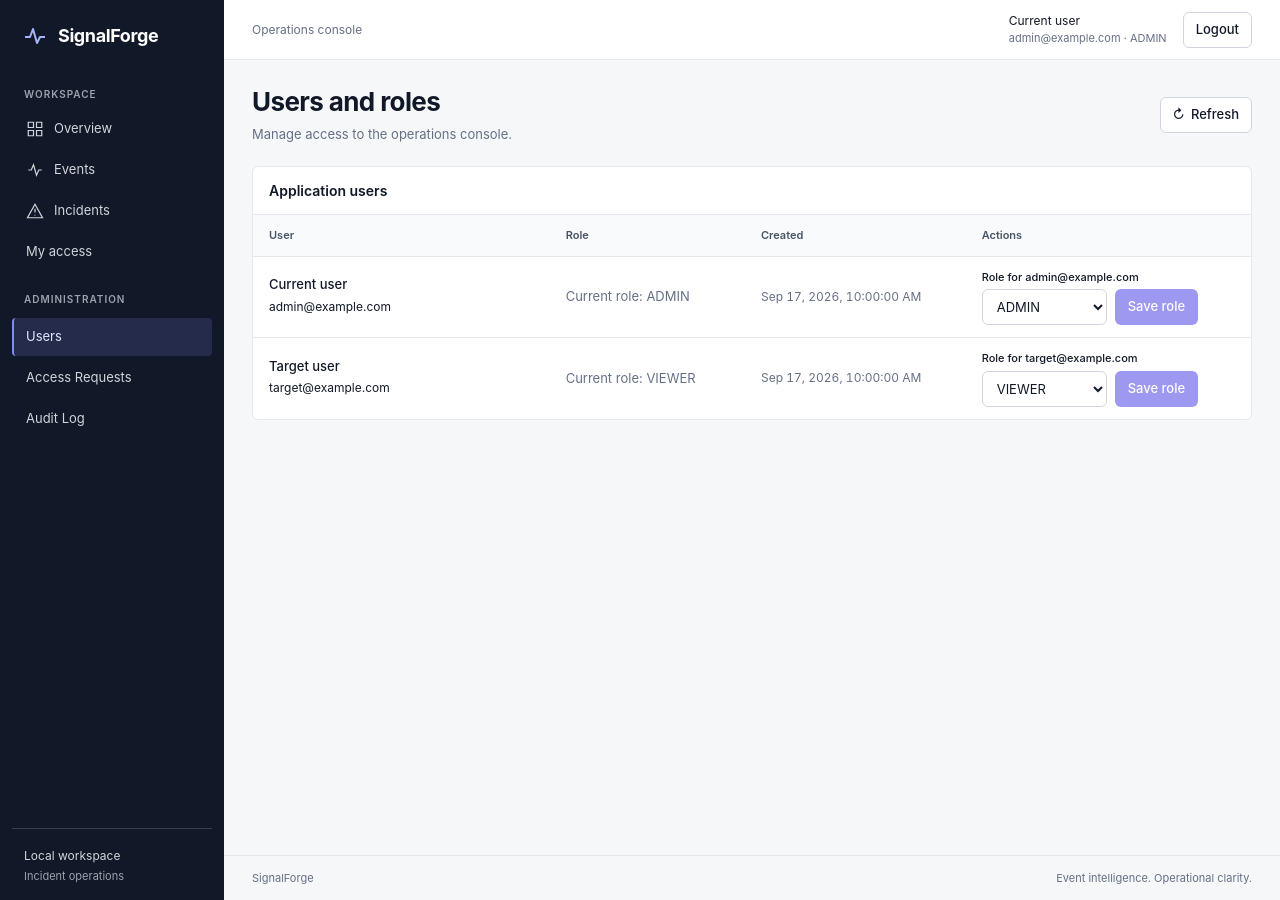
Test: explains last-admin 409 without removing admin controls
This screenshot has width=1280, height=900.
Select "VIEWER" in the dropdown labelled "Role for admin@example.com" at (1044, 307), box [982, 289, 1107, 325]
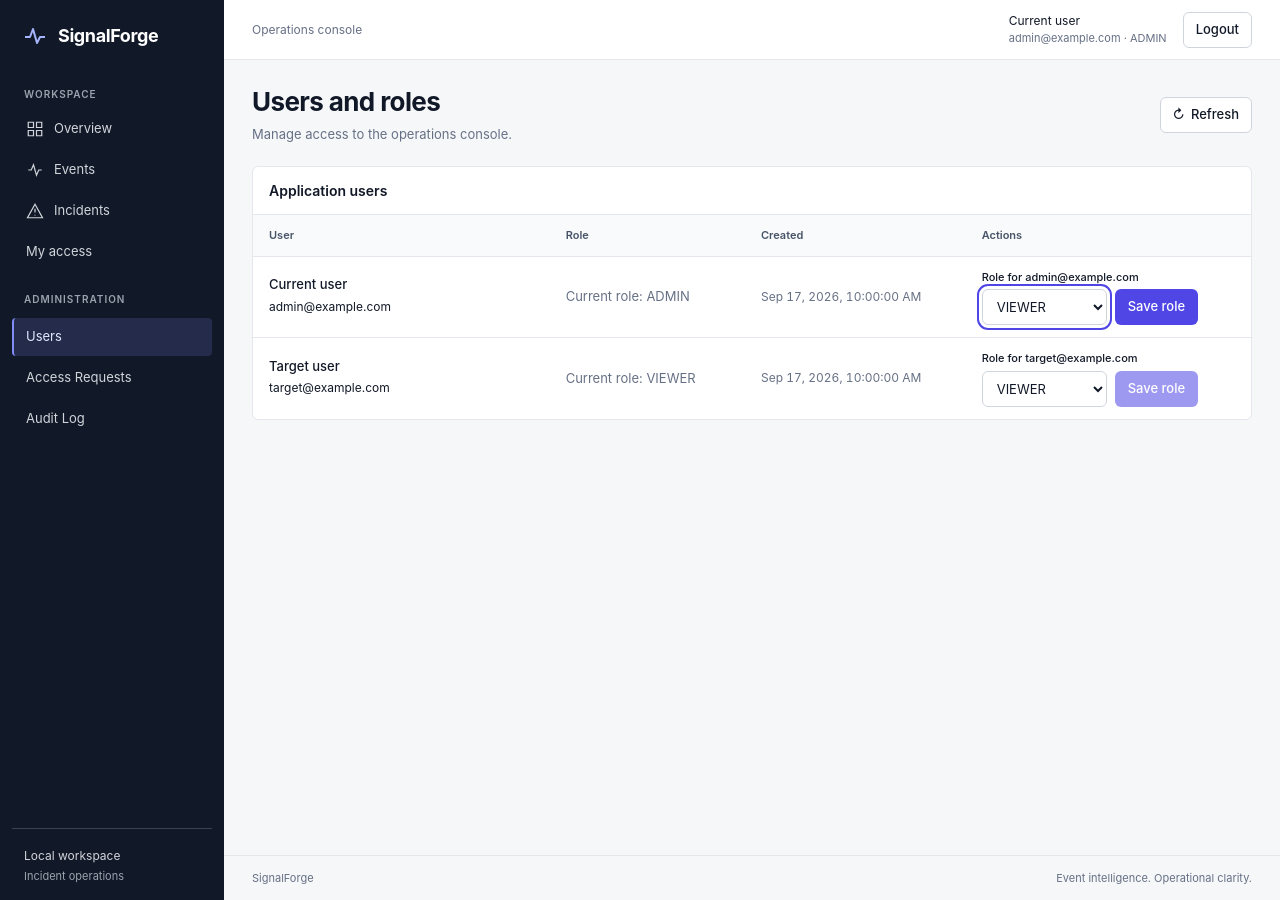
Click the 1st button "Save role" at (1156, 307), box [1115, 289, 1198, 325]
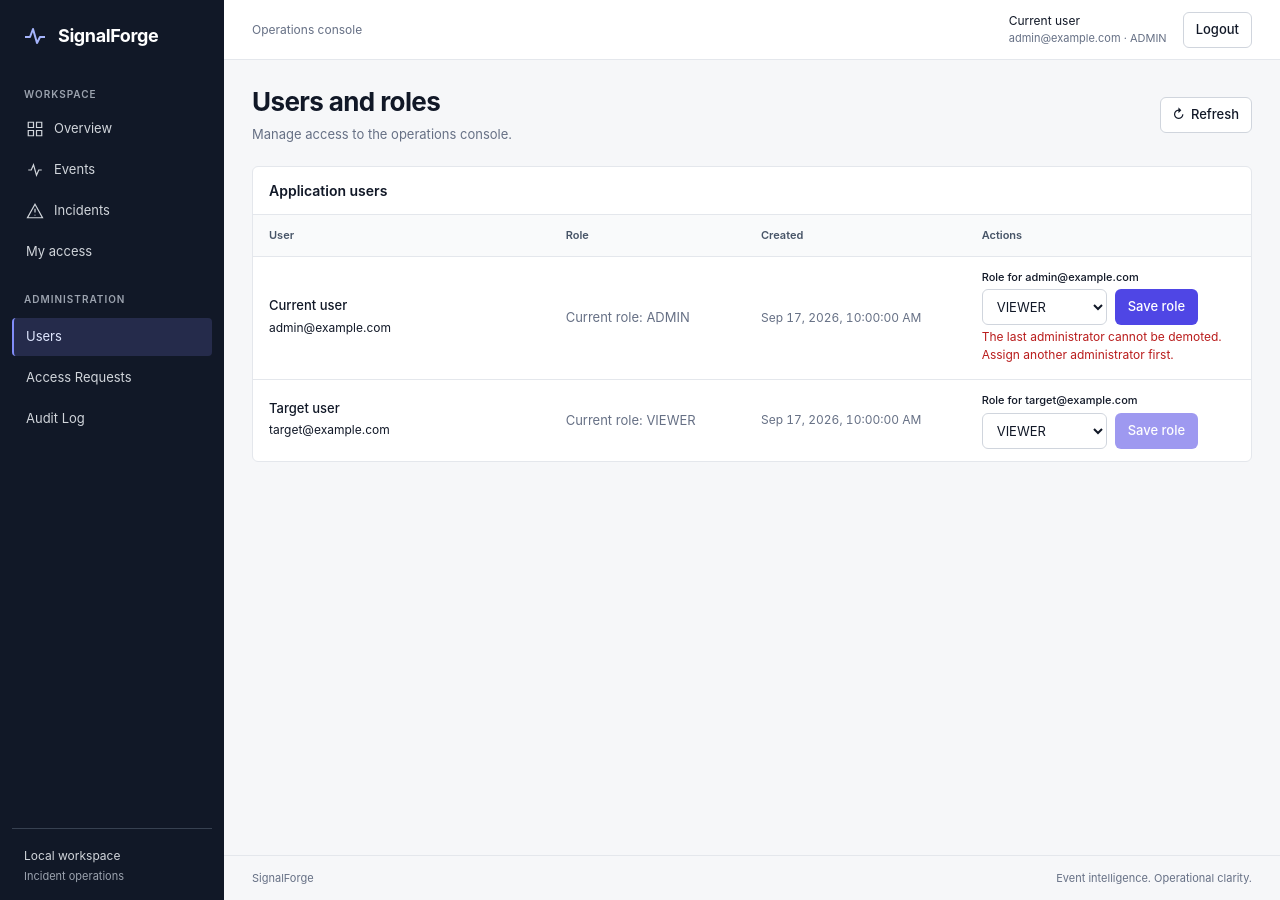
Expected: the link "Users" is shown, [12, 318, 212, 356]
Expected: the message shows "last administrator cannot be demoted", [982, 329, 1222, 362]
